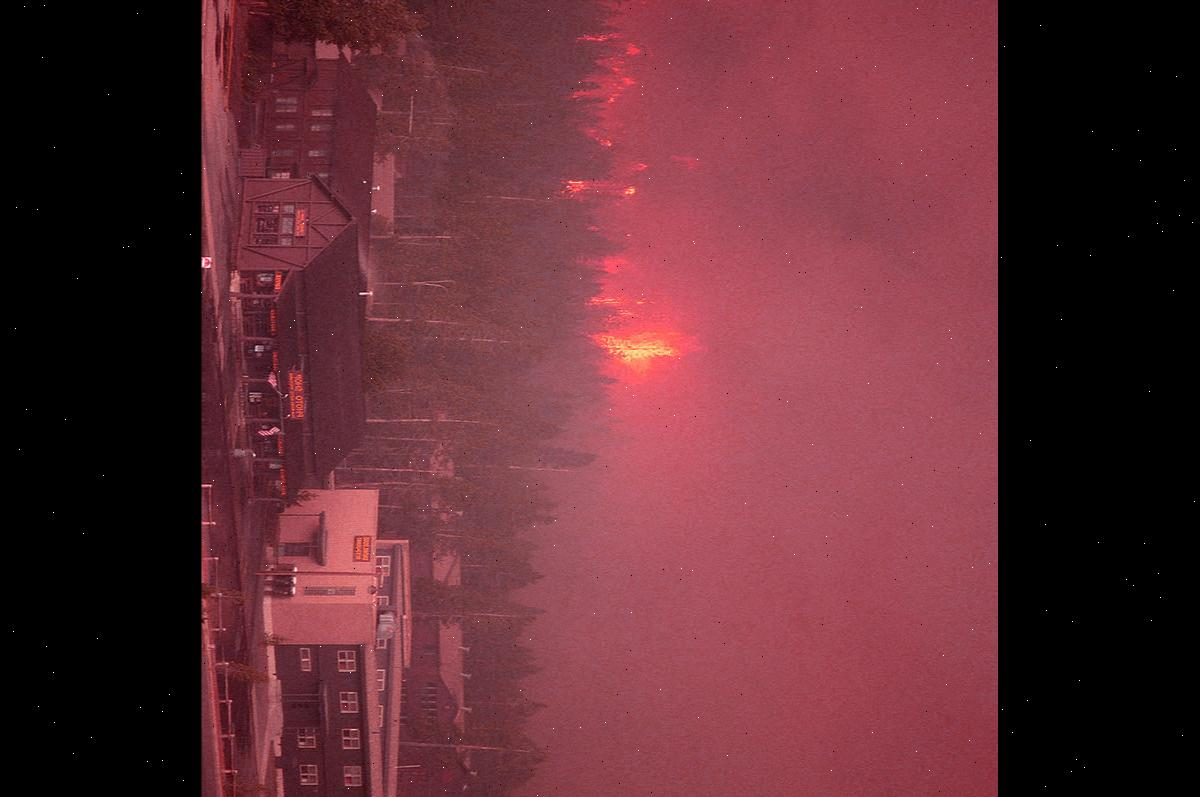fire: (549, 0, 702, 401)
